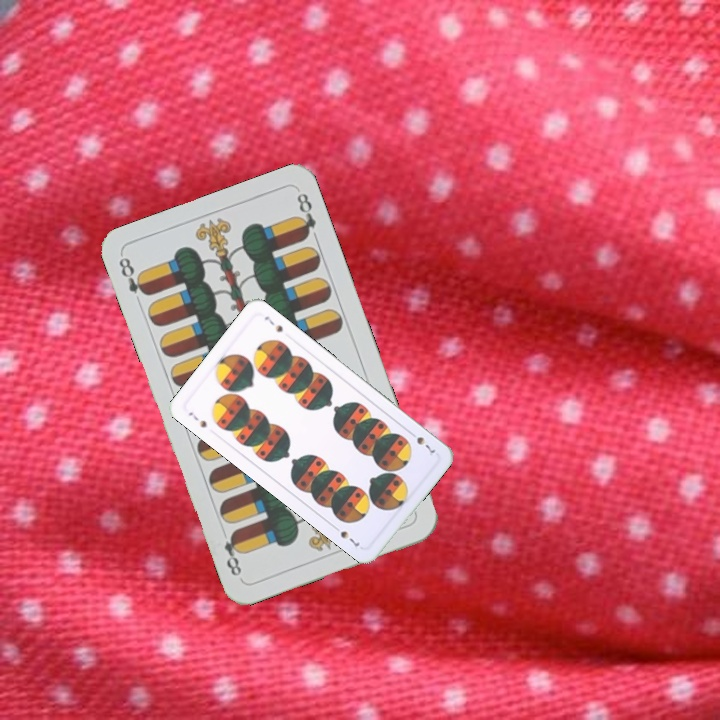E8: (114, 253, 151, 299)
S7: (405, 427, 438, 456), (184, 408, 210, 430)
